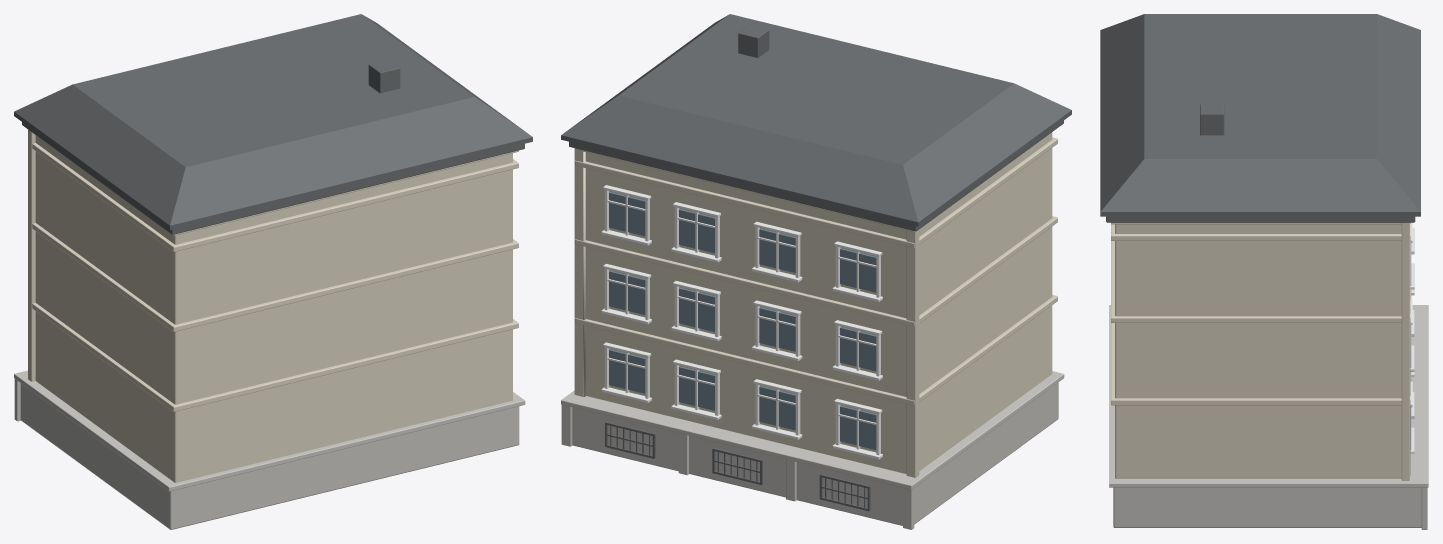
File: Hamidiye_SeyyidKutupApt.fbx
3 views of the same model, side by side, from view 1: azimuth 30°, elevation 25°; view 2: azimuth 150°, elevation 25°; view 3: azimuth 270°, elevation 25° (orthographic). The views are drawn at different scales.
Visible parts, largest first — view 1: Seyyid_MainBody, Seyyid_Roof, Seyyid_RetainingBase; view 2: Seyyid_MainBody, Seyyid_Roof, Seyyid_RetainingBase, Seyyid_Win_0_-1.2, Seyyid_Win_1_-1.2, Seyyid_Win_2_-1.2, Seyyid_Win_0_4.4, Seyyid_Win_1_-4.2, Seyyid_Win_0_-4.2, Seyyid_Win_2_4.4, Seyyid_Win_1_1.8, Seyyid_Win_1_4.4 (+18 smaller); view 3: Seyyid_MainBody, Seyyid_Roof, Seyyid_RetainingBase.
Part boxes in pixels (<box>): Seyyid_MainBody: <box>28,129,518,482</box>; Seyyid_Roof: <box>14,14,532,234</box>; Seyyid_RetainingBase: <box>14,370,525,529</box>; Seyyid_MainBody: <box>574,132,1057,477</box>; Seyyid_Roof: <box>561,14,1071,231</box>; Seyyid_RetainingBase: <box>561,371,1064,529</box>; Seyyid_Win_0_-1.2: <box>752,379,802,439</box>; Seyyid_Win_1_-1.2: <box>752,300,802,361</box>; Seyyid_Win_2_-1.2: <box>752,221,802,282</box>; Seyyid_Win_0_4.4: <box>601,342,651,403</box>; Seyyid_Win_1_-4.2: <box>832,320,882,380</box>; Seyyid_Win_0_-4.2: <box>832,399,882,459</box>; Seyyid_Win_2_4.4: <box>601,185,651,245</box>; Seyyid_Win_1_1.8: <box>671,281,721,341</box>; Seyyid_Win_1_4.4: <box>601,263,651,324</box>; Seyyid_MainBody: <box>1111,222,1410,480</box>; Seyyid_Roof: <box>1100,14,1420,222</box>; Seyyid_RetainingBase: <box>1109,305,1428,529</box>.
Bounding box in the file's own units: 13.3 × 12.8 × 10.13.
